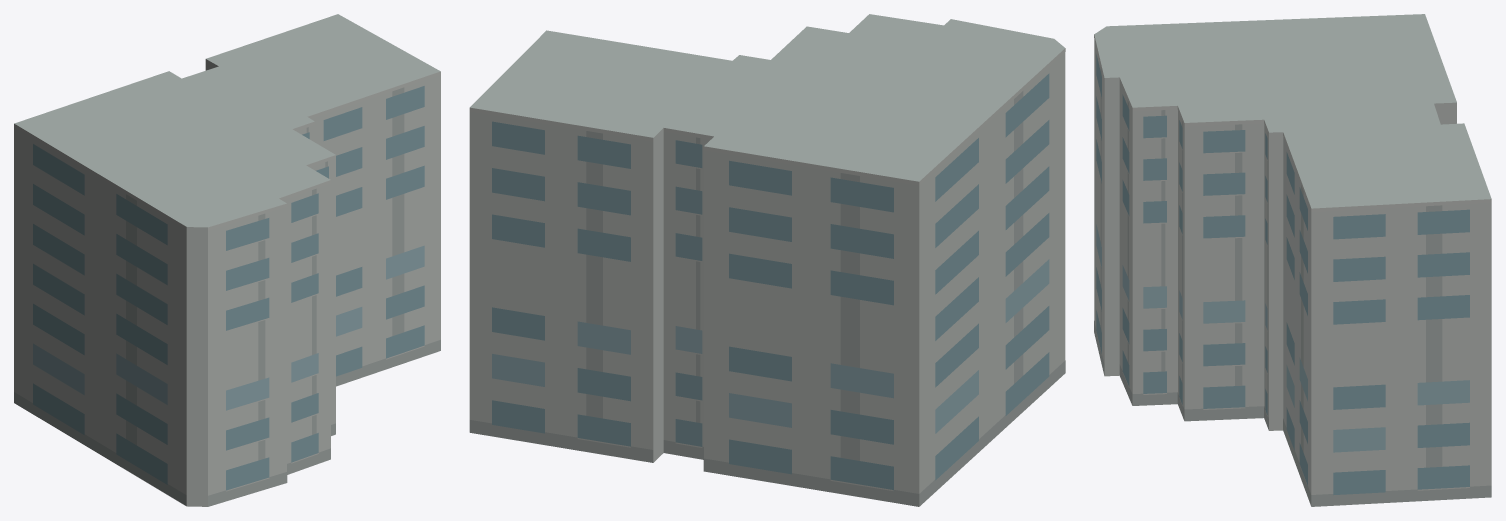
Rendered from survey-upis-32666380.glb.
The picture shows the model from 3 angles, left to right: view 1: azimuth 30°, elevation 25°; view 2: azimuth 150°, elevation 25°; view 3: azimuth 270°, elevation 25°; orthographic projection. The views are drawn at different scales.
Visible parts, largest first — view 1: survey-upis-32666380.tmp; view 2: survey-upis-32666380.tmp; view 3: survey-upis-32666380.tmp.
Boxes of the visible parts, x1,y1,x2,y2 form: survey-upis-32666380.tmp: [14, 14, 440, 506]; survey-upis-32666380.tmp: [469, 14, 1065, 506]; survey-upis-32666380.tmp: [1094, 14, 1491, 506].
Size of the model in its own units: 27.35 by 19.55 by 23.62.
